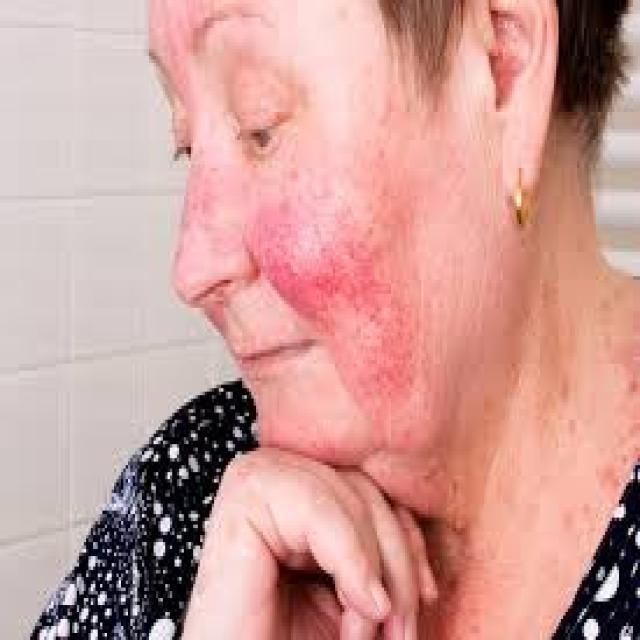Rosacea: (253, 197, 428, 410), (176, 160, 238, 276)
